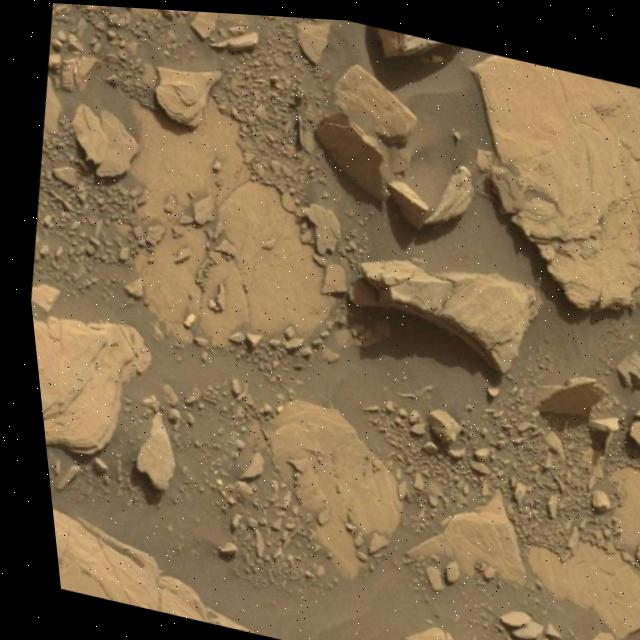mars-rocks: (344, 255, 535, 367), (330, 59, 413, 139), (312, 107, 387, 195), (67, 102, 133, 174), (151, 64, 218, 124), (123, 410, 162, 489), (418, 160, 469, 218), (527, 370, 598, 411), (67, 102, 102, 162)
